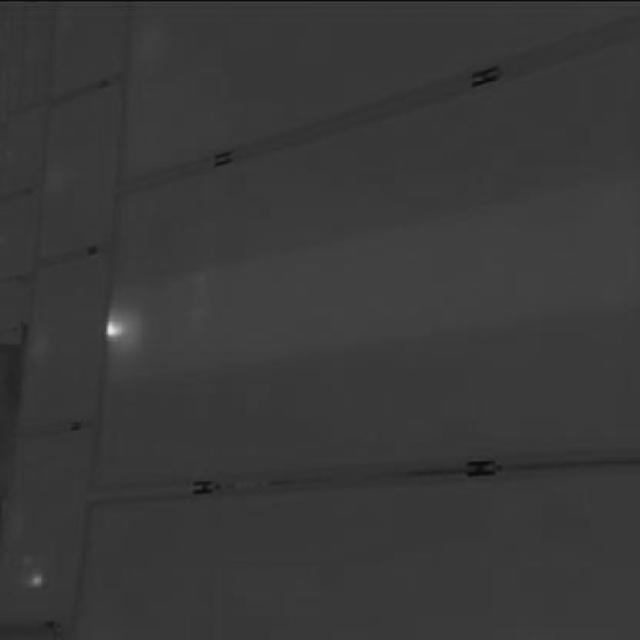hotspot: (106, 309, 125, 346)
